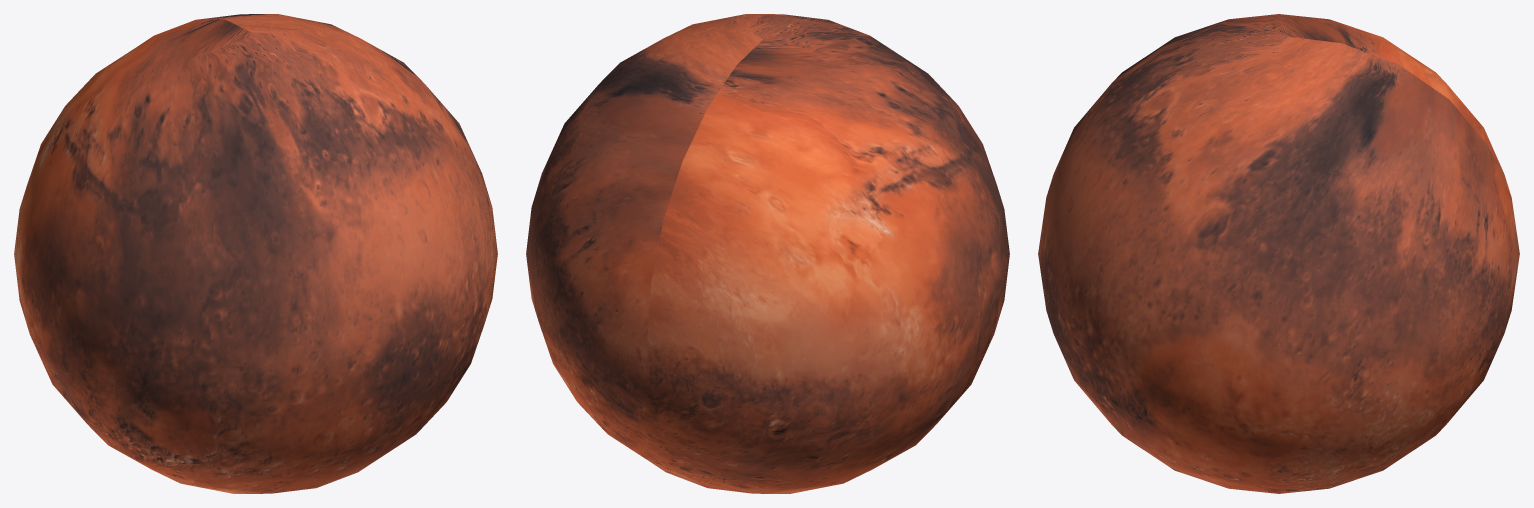
Rendered from mars_model.fbx.
3 views of the same model, side by side, from view 1: azimuth 30°, elevation 25°; view 2: azimuth 150°, elevation 25°; view 3: azimuth 270°, elevation 25° (orthographic).
Parts seen in each view (by area): view 1: pCube1; view 2: pCube1; view 3: pCube1.
Part boxes in pixels (x1,y1,x2,y2): pCube1: [14, 14, 497, 493]; pCube1: [526, 14, 1009, 493]; pCube1: [1038, 14, 1519, 493].
Bounding box in the file's own units: 10 × 10 × 10.
